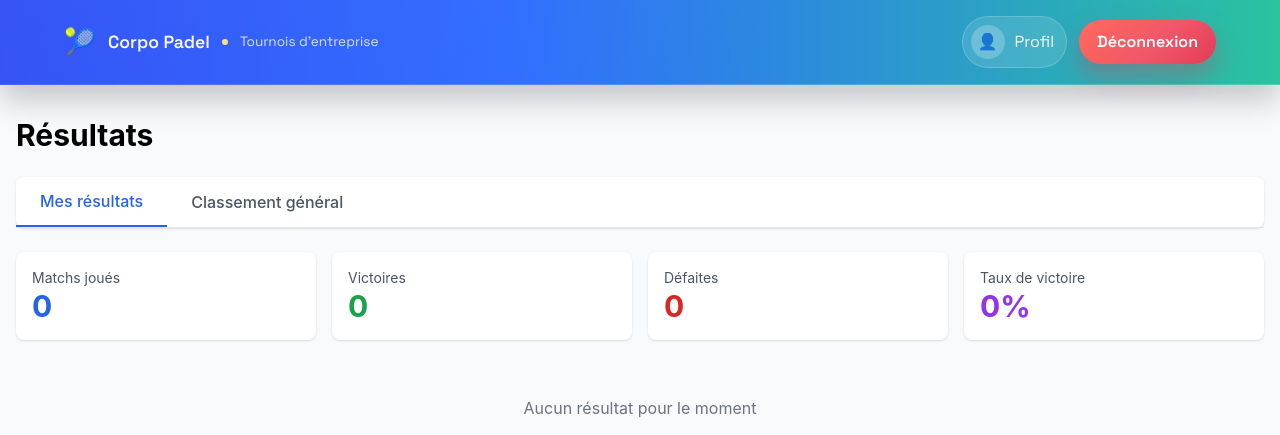
Scenario: Resultats › affiche le classement general
Click the button "Classement général".
click(267, 202)  # box x1=167 y1=177 x2=367 y2=227
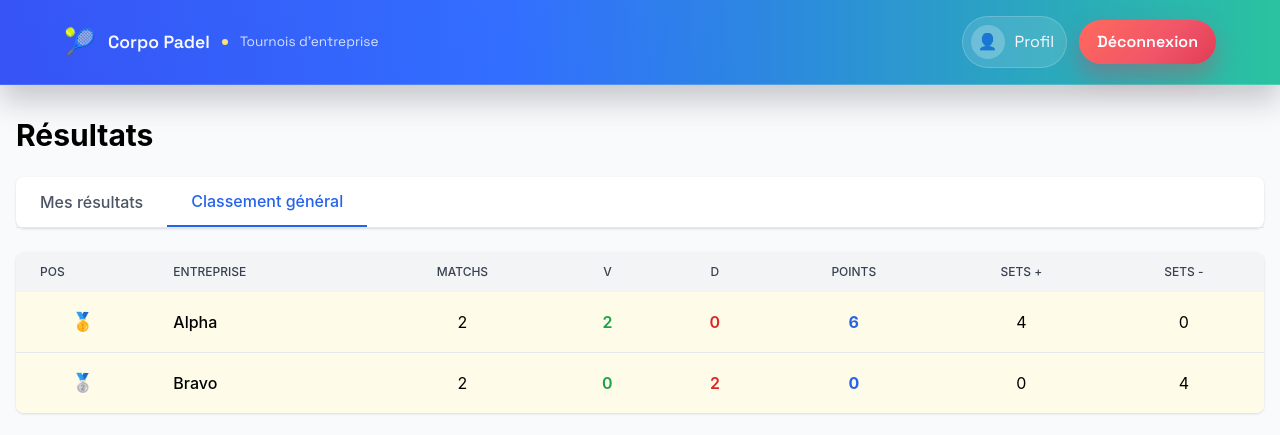
Check: the text "Alpha" is shown, box x1=149 y1=292 x2=371 y2=352
Check: the text "Bravo" is shown, box x1=149 y1=352 x2=371 y2=413
